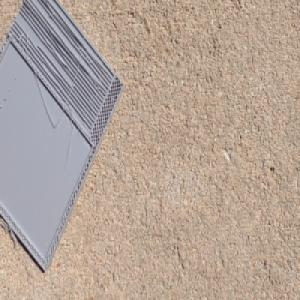PlasticPart: (0, 0, 128, 274)
